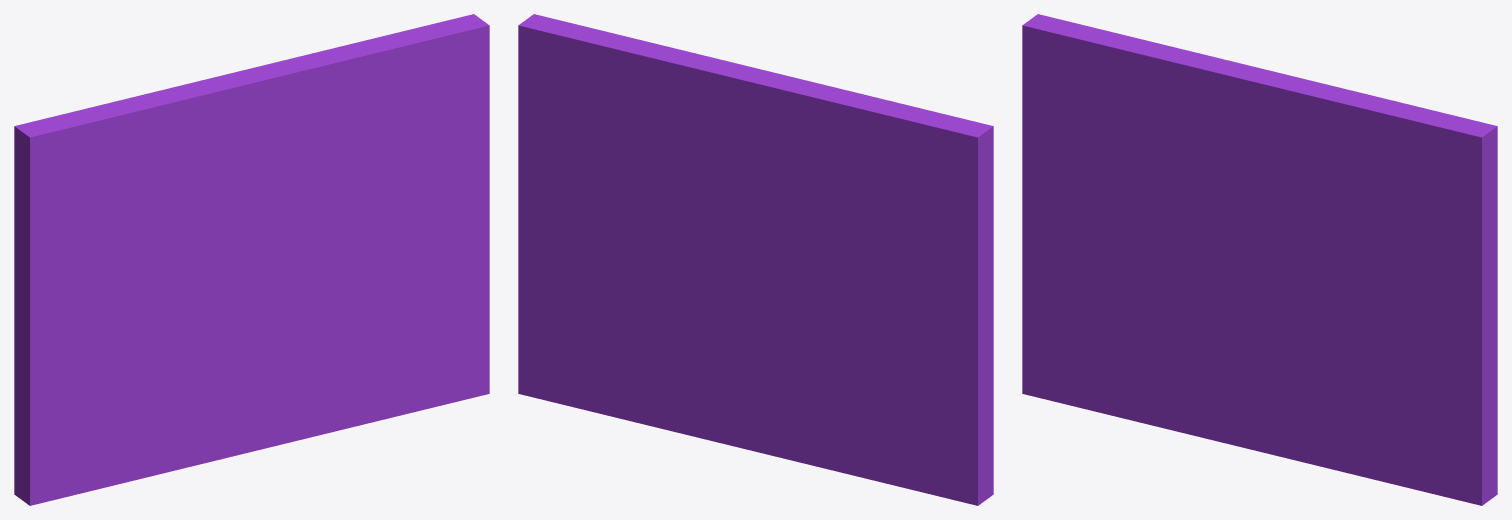
The model's file is Barrier_209_chunks.fbx.
3 views of the same model, side by side, from view 1: azimuth 30°, elevation 25°; view 2: azimuth 150°, elevation 25°; view 3: azimuth 330°, elevation 25° (orthographic).
Parts seen in each view (by area): view 1: Barrier_209_2, Barrier_209_0, Barrier_209_1, Barrier_209_3; view 2: Barrier_209_2, Barrier_209_1, Barrier_209_3, Barrier_209_0; view 3: Barrier_209_2, Barrier_209_0, Barrier_209_1.
Part boxes in pixels (box(x1,y1,x2,y2)): Barrier_209_2: box(266, 14, 489, 418); Barrier_209_0: box(18, 55, 339, 326); Barrier_209_1: box(14, 271, 388, 505); Barrier_209_3: box(14, 89, 163, 331); Barrier_209_2: box(518, 14, 742, 418); Barrier_209_1: box(622, 274, 993, 505); Barrier_209_3: box(707, 99, 991, 342); Barrier_209_0: box(684, 50, 993, 314); Barrier_209_2: box(1258, 85, 1497, 505); Barrier_209_0: box(1022, 17, 1331, 273); Barrier_209_1: box(1022, 214, 1381, 481).
Bounding box in the file's own units: 376 × 288 × 22.1.
